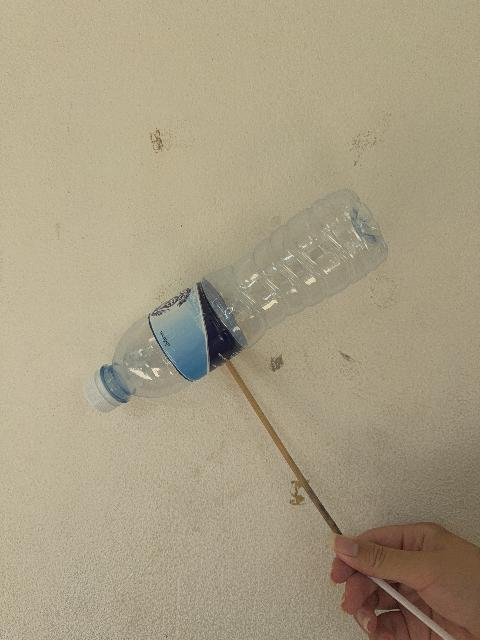bottle: (84, 190, 387, 412)
